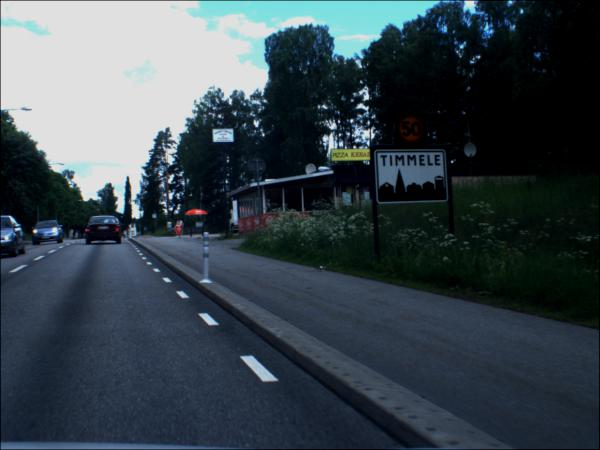50_SIGN: (396, 114, 428, 147)
